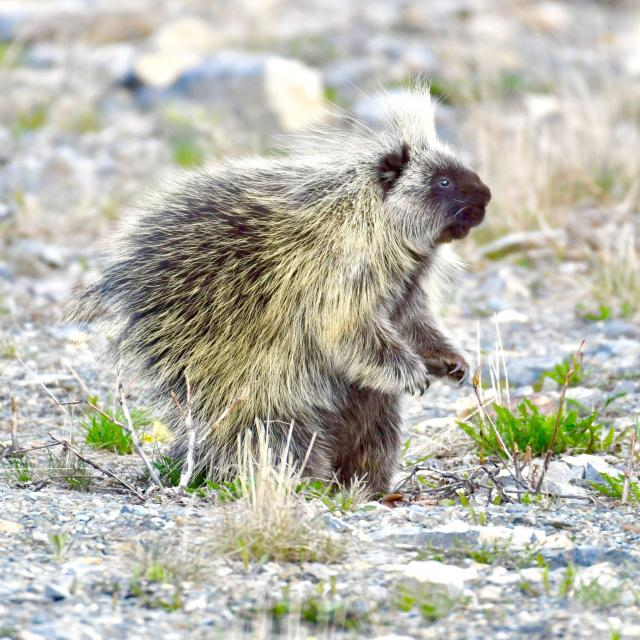Porcupine: (108, 120, 504, 500)
